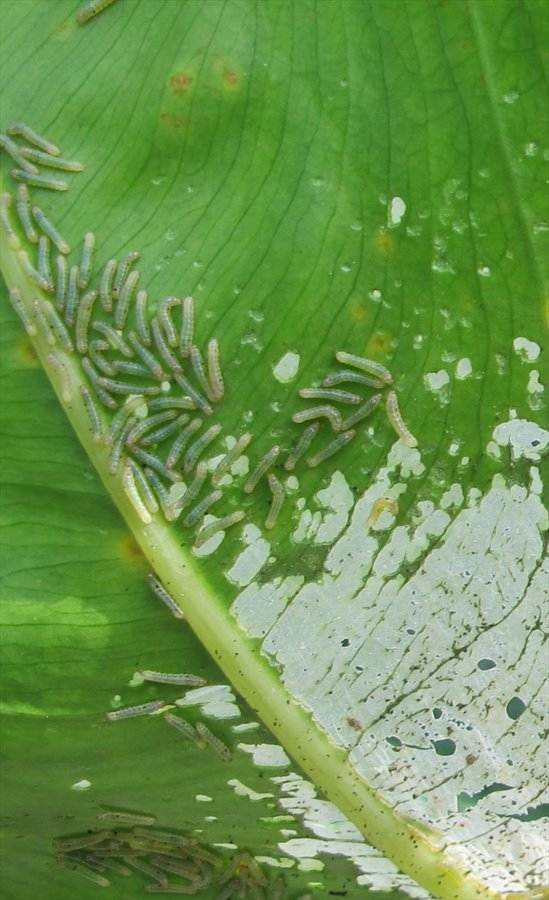Armyworm: (329, 351, 419, 393), (119, 653, 203, 697), (103, 685, 174, 732), (69, 218, 101, 293), (139, 572, 186, 622), (254, 475, 303, 521), (11, 179, 42, 250), (381, 382, 404, 471), (7, 114, 62, 151), (4, 266, 32, 335), (76, 382, 104, 441)
